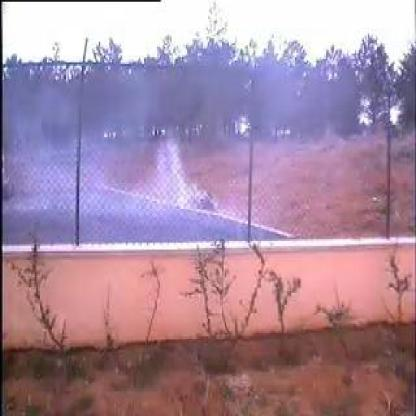-: (78, 66, 255, 244)
